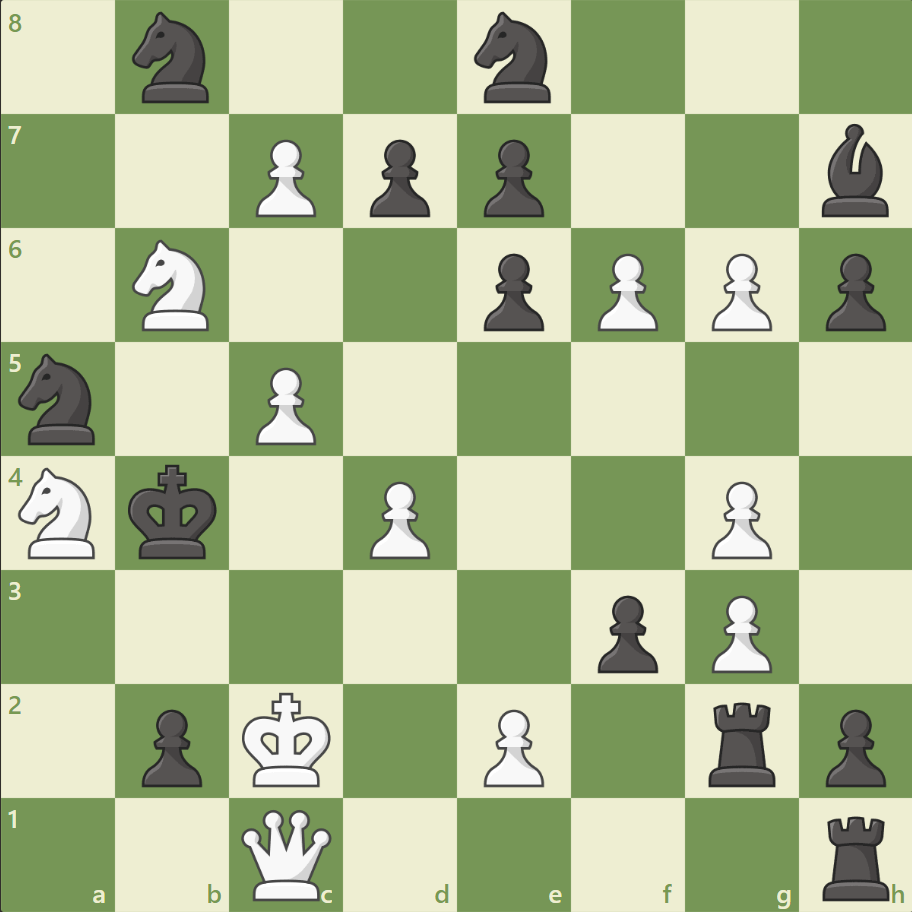K: (238, 685, 338, 793)
N: (124, 234, 222, 337), (11, 461, 108, 564)
P: (247, 132, 322, 223), (701, 246, 776, 337), (247, 359, 322, 450), (701, 473, 776, 564), (701, 586, 776, 677), (474, 700, 549, 791), (588, 246, 662, 337), (361, 473, 435, 564)
Q: (237, 804, 336, 903)
b: (812, 120, 896, 222)
k: (124, 458, 224, 566)
n: (124, 7, 222, 110), (465, 7, 562, 110), (11, 348, 108, 450)
p: (474, 132, 549, 223), (474, 246, 549, 337), (133, 700, 208, 791), (361, 132, 435, 223), (815, 246, 889, 337), (588, 586, 662, 677), (815, 700, 889, 791)
r: (814, 806, 897, 904), (700, 693, 783, 790)
